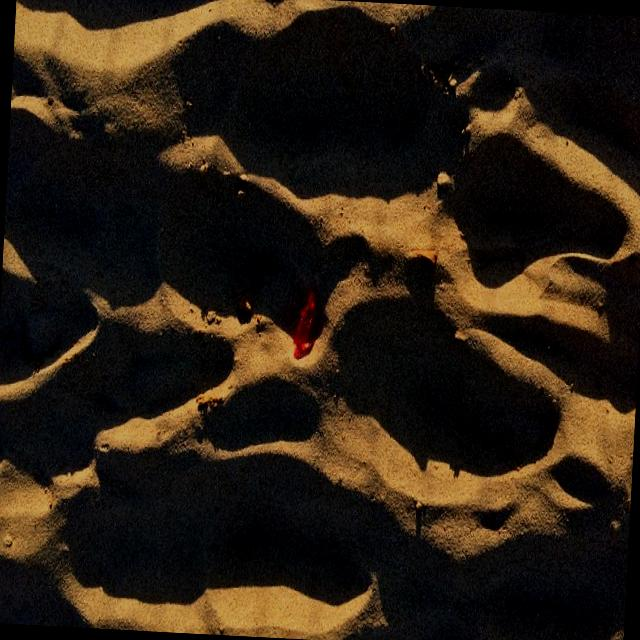Trash: (292, 289, 322, 355)
